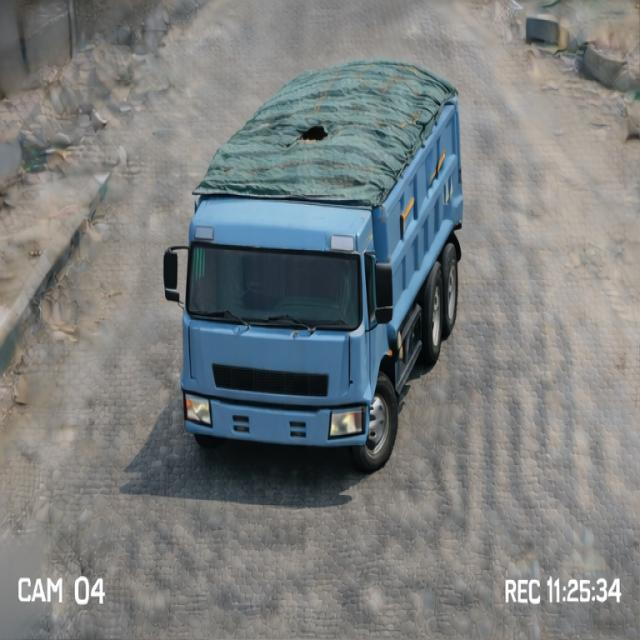trailer: (199, 58, 464, 202)
truck: (162, 47, 501, 466)
